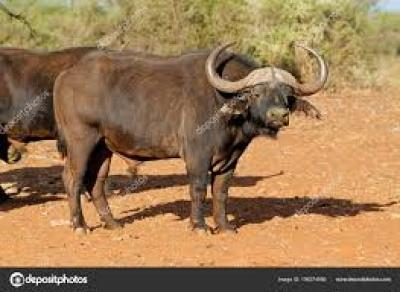buffalo: (0, 43, 328, 231)
